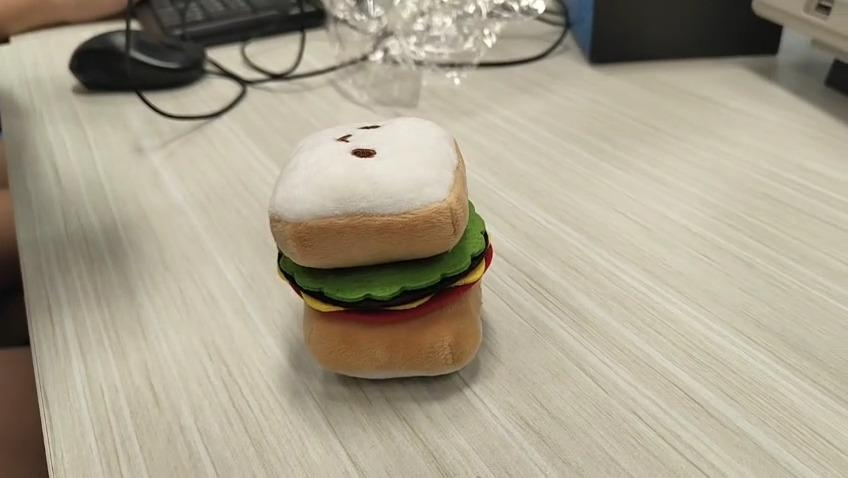objects: (265, 116, 495, 380)
